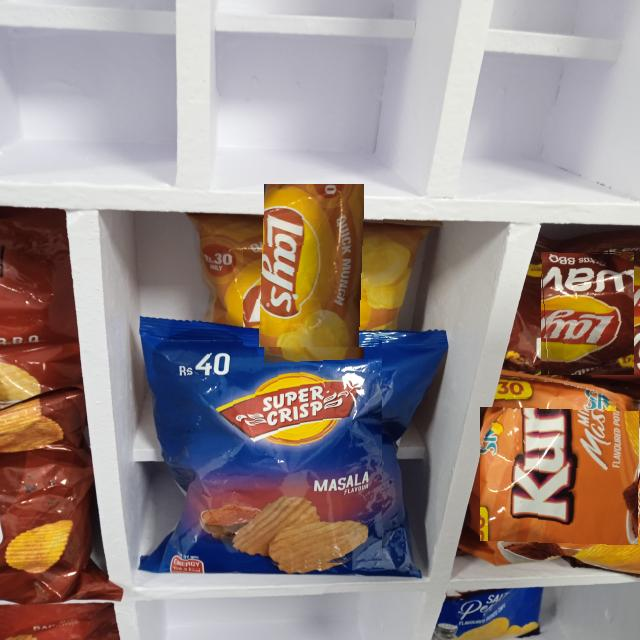Plastic: (176, 340, 382, 570), (488, 397, 640, 549), (243, 204, 384, 347), (540, 251, 634, 375)
